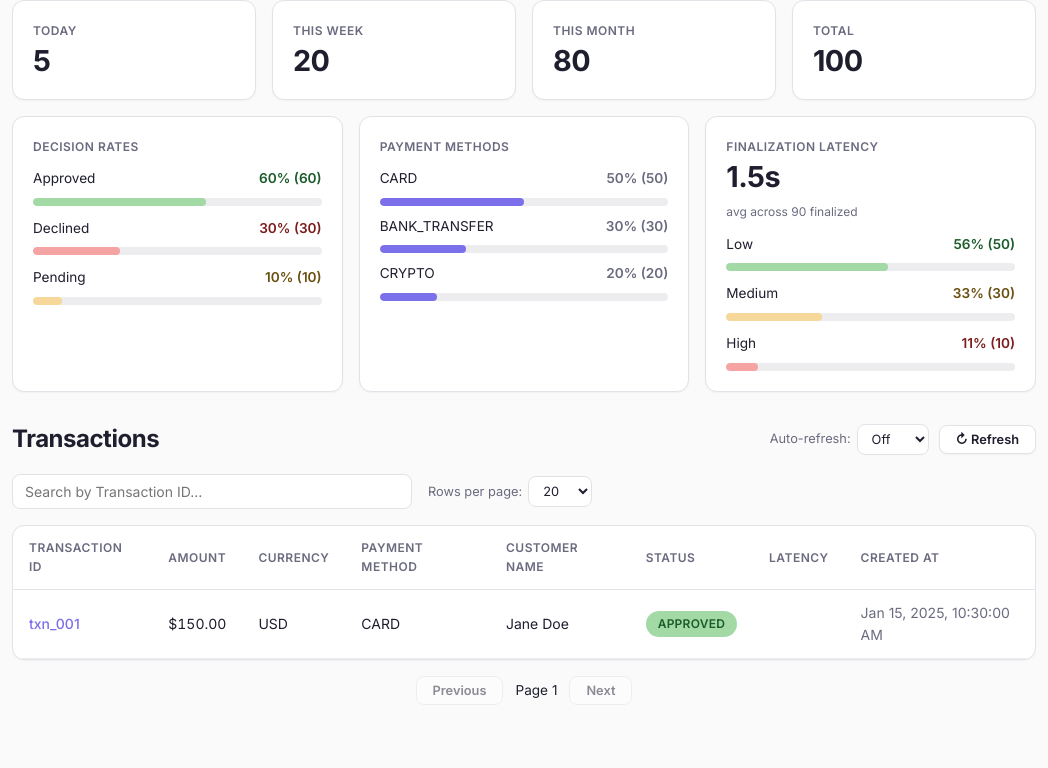
it: TransactionList › falls back to backend search when ID not found locally
This screenshot has width=1048, height=768.
expect the link "txn_001" is shown: met, box 29,615 -> 80,632
Type "txn_remote" into the field labelled "Search by Transaction ID" at [212, 492], box 12,474 -> 412,509
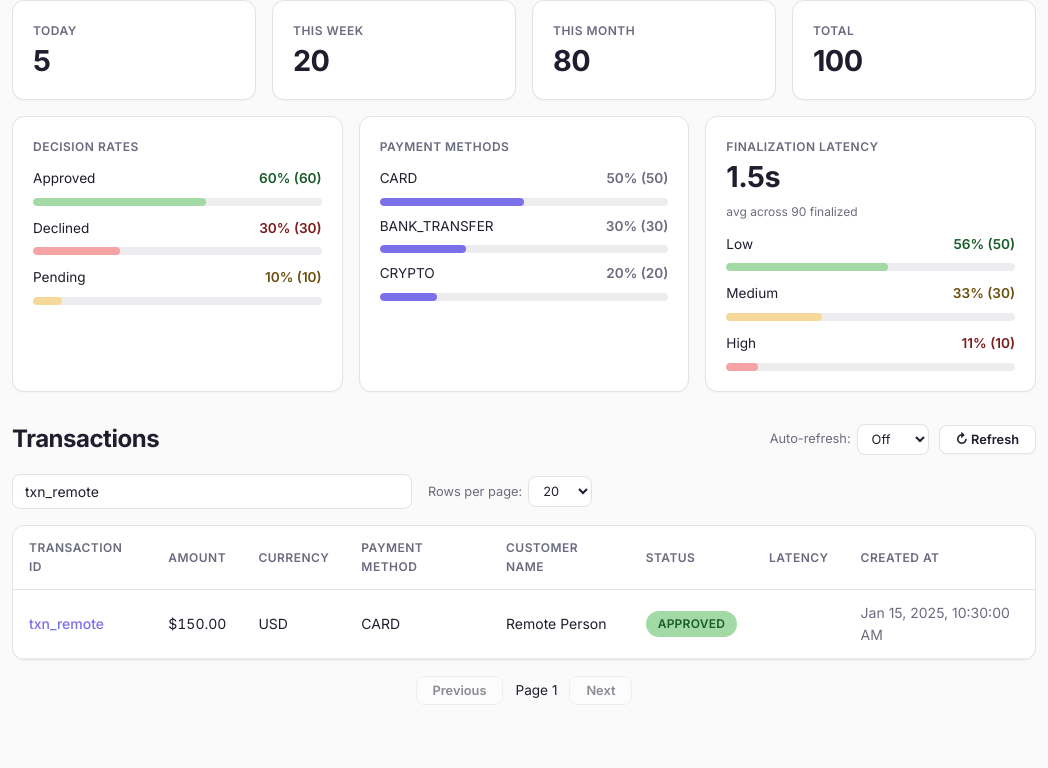
expect the link "txn_remote" is shown: met, box 29,615 -> 104,632
